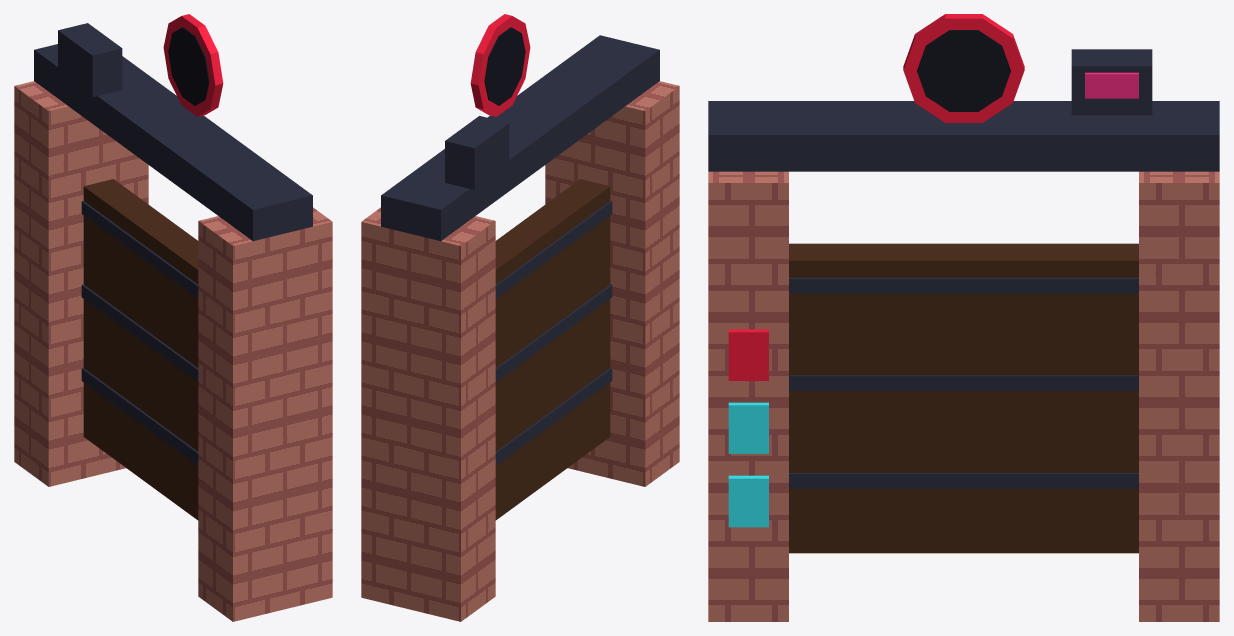
File: pf_vanne.glb
3 renders of one model, left to right at view 1: azimuth 30°, elevation 25°; view 2: azimuth 150°, elevation 25°; view 3: azimuth 270°, elevation 25°, orthographic. The views are drawn at different scales.
Visible parts, largest first — view 1: p_box.1598, p_box.1599, p_box.1600, p_box.1604, p_box.1605, p_cyl.134, p_cyl.135, p_box.1602, p_box.1601, p_box.1603; view 2: p_box.1599, p_box.1598, p_box.1600, p_box.1604, p_box.1605, p_cyl.134, p_cyl.135, p_box.1602, p_box.1601, p_box.1603; view 3: p_box.1600, p_box.1599, p_box.1604, p_box.1598, p_cyl.135, p_box.1603, p_box.1601, p_box.1602, p_cyl.134, p_box.1605, p_box.1607, p_box.1609 (+2 smaller).
Part boxes in pixels (x1,y1,x2,y2): p_box.1598: [198, 207, 332, 621]; p_box.1599: [14, 81, 148, 486]; p_box.1600: [83, 179, 198, 520]; p_box.1604: [34, 44, 312, 241]; p_box.1605: [58, 23, 122, 97]; p_cyl.134: [163, 14, 223, 116]; p_cyl.135: [168, 27, 209, 105]; p_box.1602: [81, 284, 198, 382]; p_box.1601: [81, 368, 198, 465]; p_box.1603: [81, 201, 198, 298]; p_box.1599: [361, 207, 495, 621]; p_box.1598: [545, 81, 679, 486]; p_box.1600: [495, 179, 610, 520]; p_box.1604: [381, 35, 659, 241]; p_box.1605: [445, 116, 509, 189]; p_cyl.134: [470, 14, 530, 116]; p_cyl.135: [484, 27, 525, 105]; p_box.1602: [495, 284, 612, 382]; p_box.1601: [495, 368, 612, 465]; p_box.1603: [495, 201, 612, 298]; p_box.1600: [789, 243, 1138, 553]; p_box.1599: [1139, 171, 1219, 621]; p_box.1604: [708, 101, 1219, 171]; p_box.1598: [708, 171, 788, 621]; p_cyl.135: [917, 30, 1010, 111]; p_box.1603: [789, 277, 1138, 293]; p_box.1601: [789, 473, 1138, 488]; p_box.1602: [789, 375, 1138, 390]; p_cyl.134: [903, 14, 1024, 122]; p_box.1605: [1071, 49, 1152, 115]; p_box.1607: [728, 475, 768, 527]; p_box.1609: [728, 329, 768, 380].
Size of the model in its own units: 1.05 by 4.83 by 3.8.
Materials: 7 (1 with a texture image).
